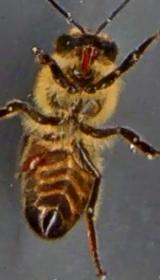varroa_mite: (20, 145, 50, 176)
